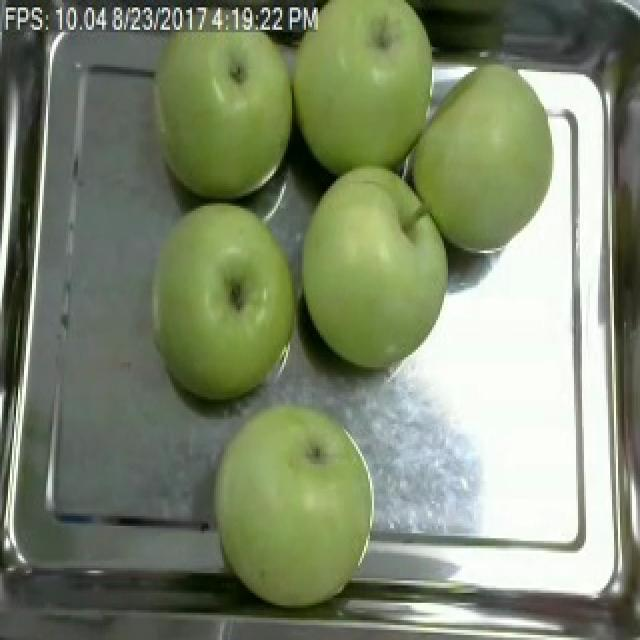50-_ripeness: (207, 412, 385, 599), (154, 196, 304, 415), (404, 66, 578, 245), (301, 180, 455, 380), (146, 8, 300, 206), (272, 0, 431, 159)
